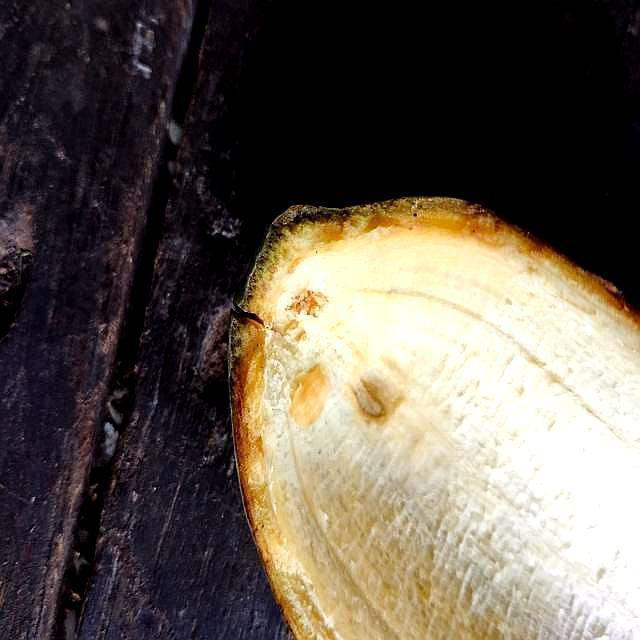Biodegradable: (231, 207, 640, 640)
